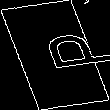P_W: (7, 31, 103, 79)
